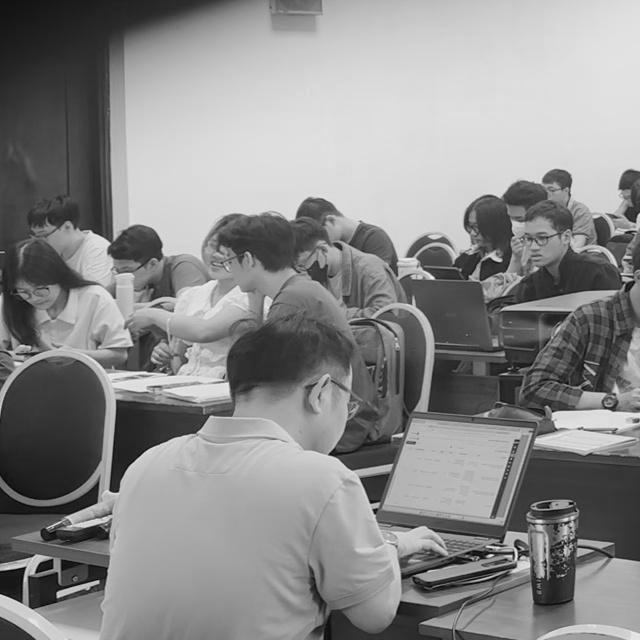Looking away: (15, 270, 66, 311), (522, 217, 563, 267), (466, 205, 488, 250)
